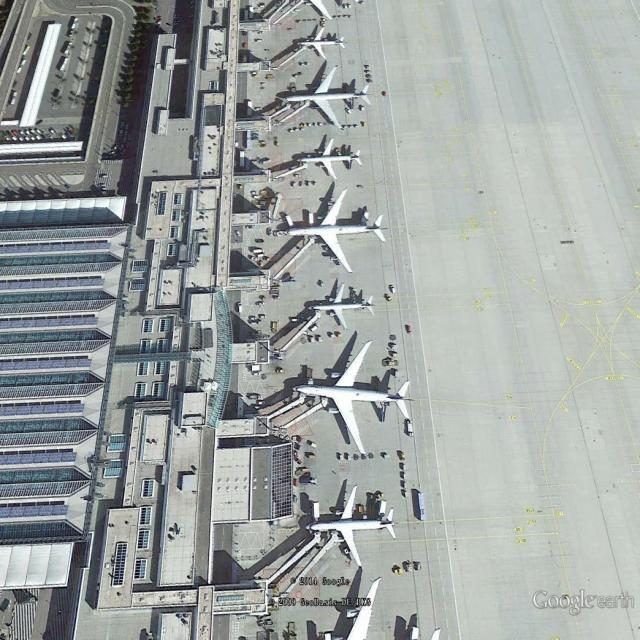aircraft: (290, 339, 416, 460), (279, 187, 392, 276), (303, 483, 400, 573), (281, 65, 375, 132), (309, 281, 379, 333), (295, 137, 365, 183), (292, 25, 348, 60)
